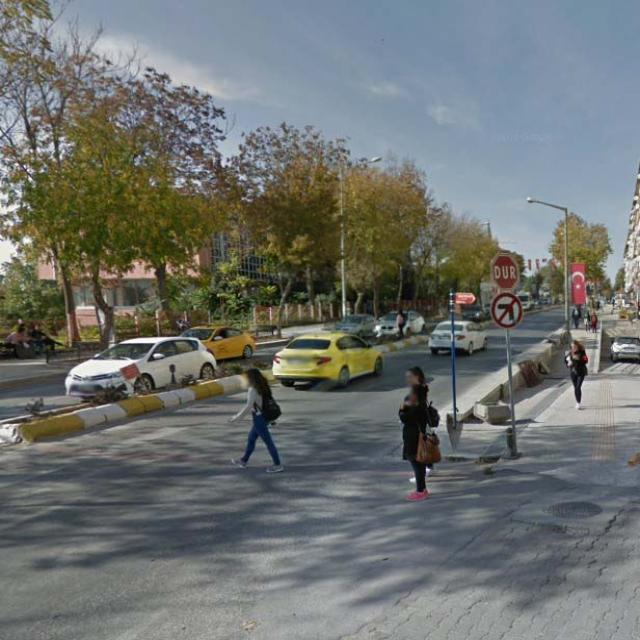dur: (490, 255, 520, 288)
soladonulmez: (493, 296, 520, 328)
